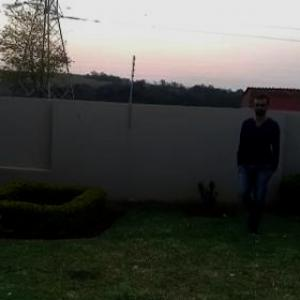follow: (227, 99, 279, 216)
